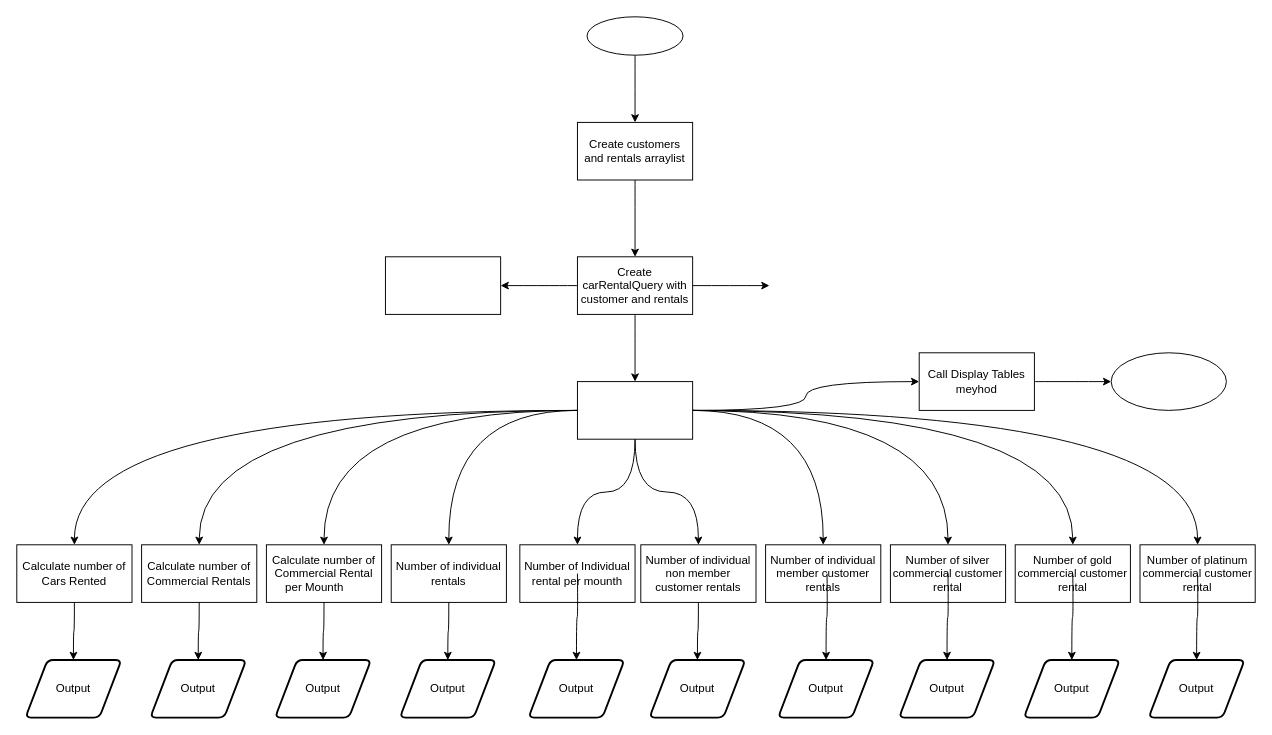
Some shapes in this 1272 by 735 pixel diagram are drawn without their labels. The shapes that lost their labels are listed below. From the top down, each one's box as (x1, y1, x2, y2) in pixels, then its label:
(586, 16, 683, 55): Start
(384, 256, 501, 314): Calculate rental price
(1110, 352, 1226, 410): End
(576, 381, 693, 439): Call display method
